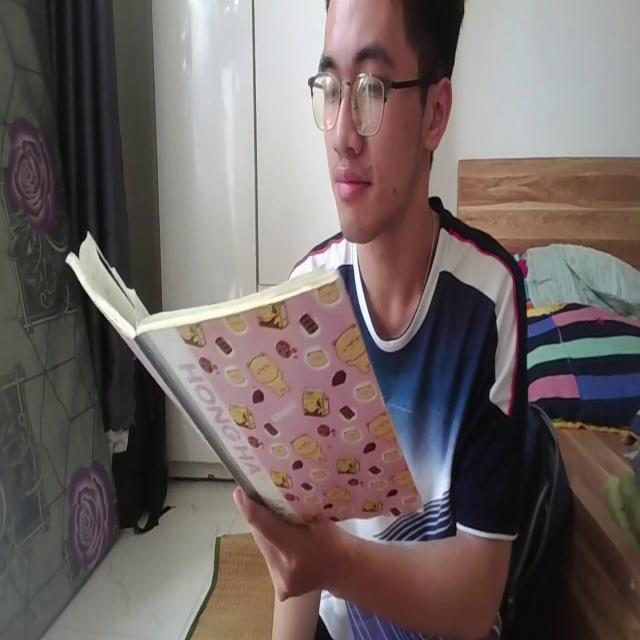book: (59, 229, 406, 518)
student: (238, 0, 525, 640)
